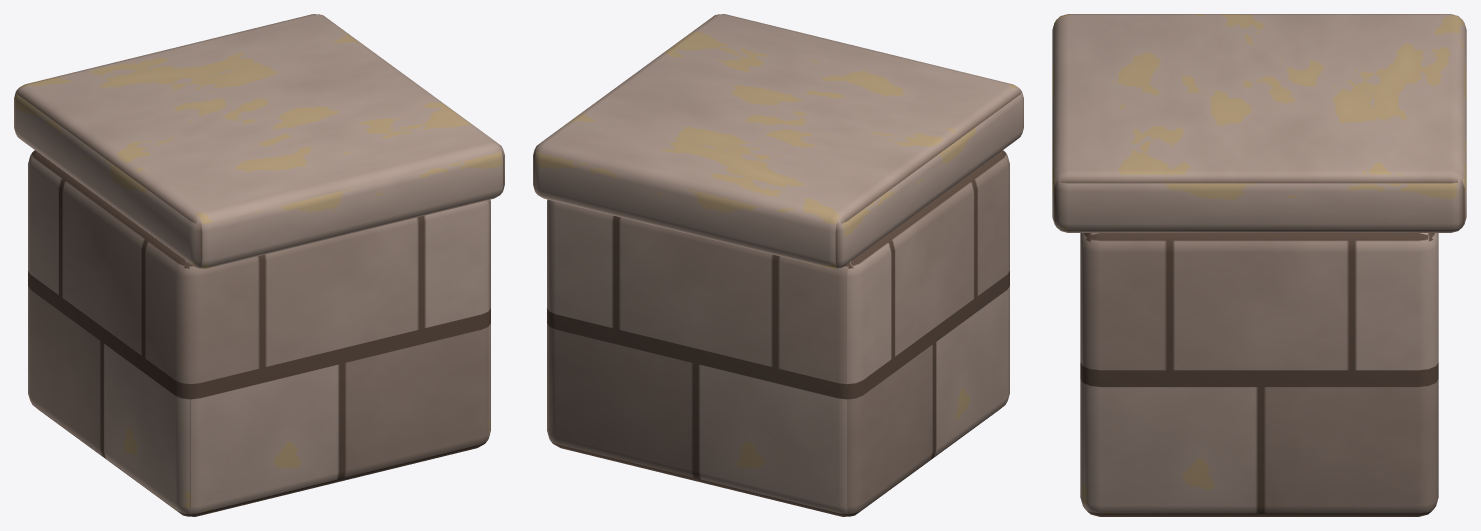
File: border.glb
3 renders of one model, left to right at view 1: azimuth 30°, elevation 25°; view 2: azimuth 150°, elevation 25°; view 3: azimuth 270°, elevation 25°, orthographic. The views are drawn at different scales.
Visible parts, largest first — view 1: border; view 2: border; view 3: border.
Boxes of the visible parts, x1,y1,x2,y2 form: border: (14,14,504,516); border: (533,14,1023,516); border: (1052,14,1466,516).
Bounding box in the file's own units: 1 × 0.96 × 1.04.
Materials: 1 (1 with a texture image).
